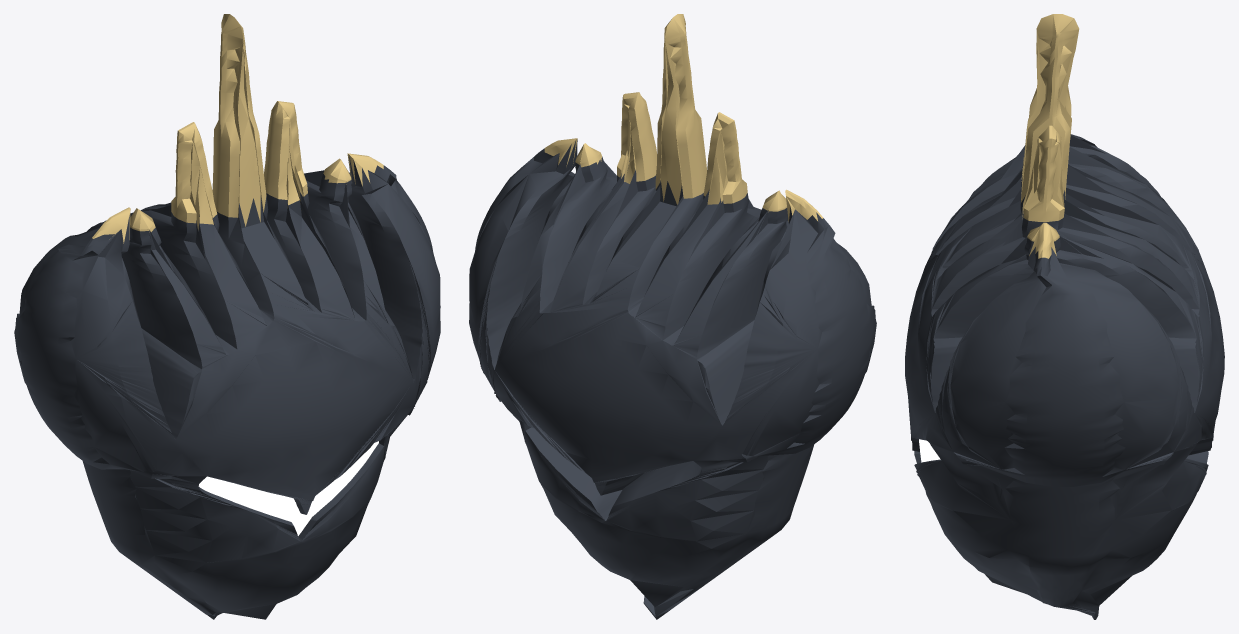
Rendered from sentinel.glb.
The picture shows the model from 3 angles, left to right: view 1: azimuth 30°, elevation 25°; view 2: azimuth 150°, elevation 25°; view 3: azimuth 270°, elevation 25°; orthographic projection. The views are drawn at different scales.
Visible parts, largest first — view 1: helm, trim, visor; view 2: helm, trim; view 3: helm, trim.
Boxes of the visible parts, x1,y1,x2,y2 form: helm: (14, 155, 440, 619); trim: (92, 14, 383, 243); visor: (198, 441, 378, 535); helm: (469, 140, 876, 619); trim: (544, 14, 823, 221); helm: (905, 134, 1224, 619); trim: (1021, 14, 1079, 258).
Bounding box in the file's own units: 0.6818 × 1.05 × 0.5022.
